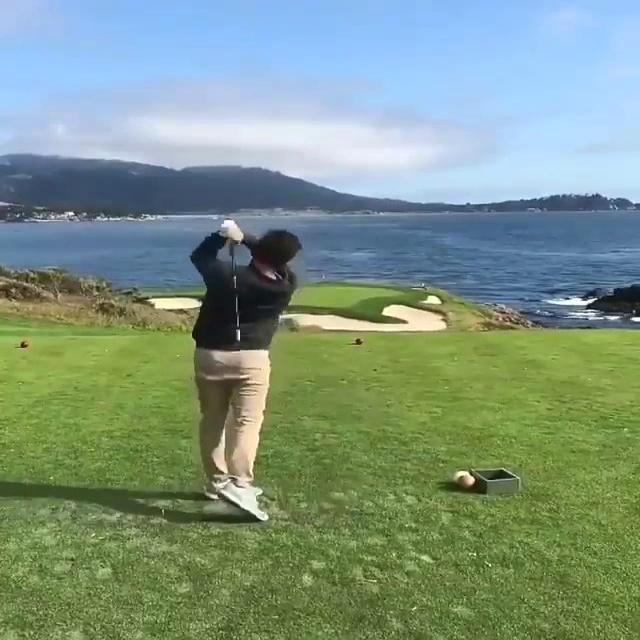ClubHead: (233, 329, 241, 342)
